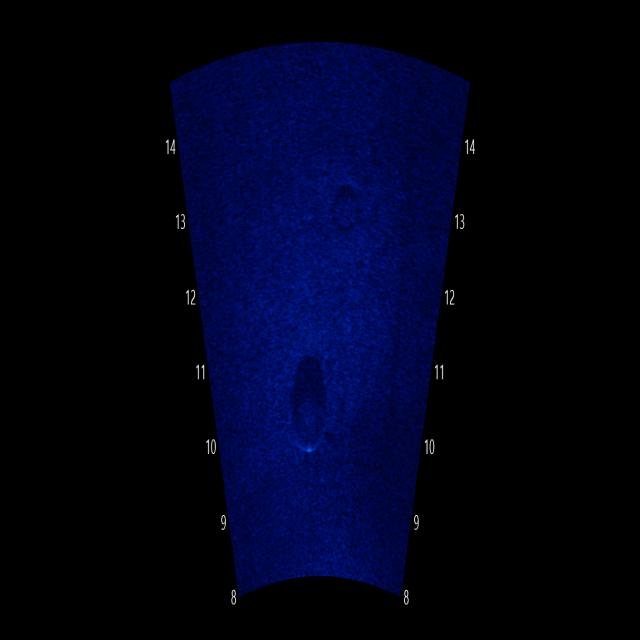circle: (279, 377, 344, 466)
